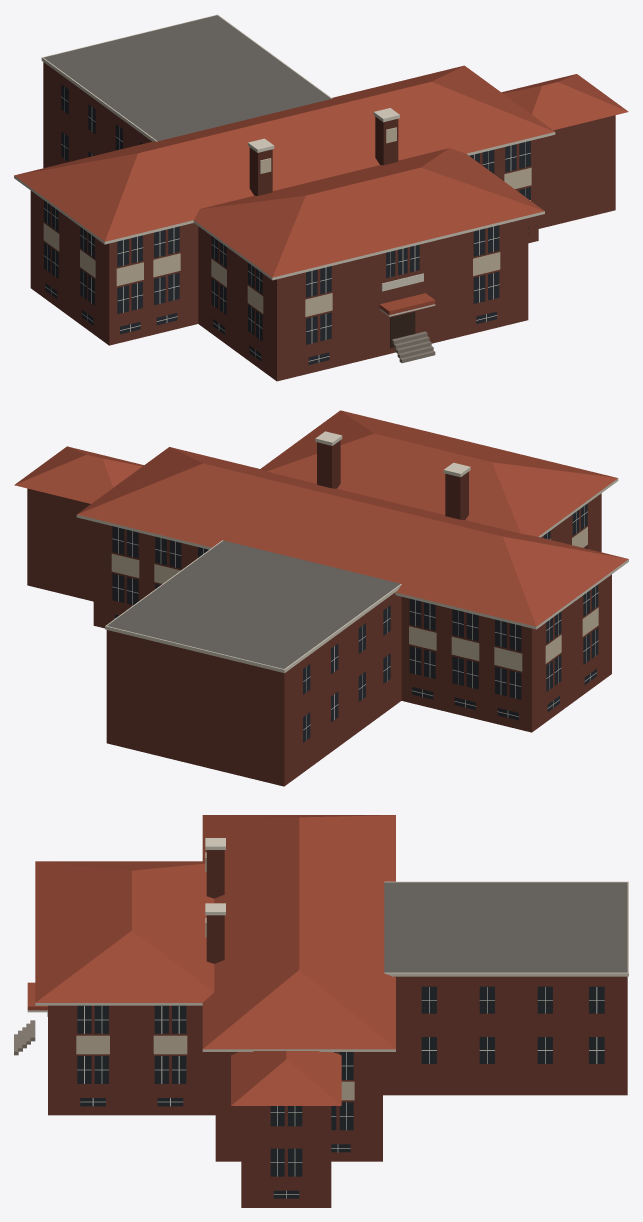
File: woodruff-school-1961.glb
3 renders of one model, top to bottom at view 1: azimuth 30°, elevation 25°; view 2: azimuth 150°, elevation 25°; view 3: azimuth 270°, elevation 25°, orthographic. The views are drawn at different scales.
Parts seen in each view (by area): view 1: woodruff_tile, woodruff_brick, woodruff_roof, woodruff_glass, woodruff_trim, woodruff_panel, woodruff_sash, woodruff_brick2, woodruff_base, woodruff_door; view 2: woodruff_tile, woodruff_brick, woodruff_roof, woodruff_glass, woodruff_trim, woodruff_panel, woodruff_brick2, woodruff_sash; view 3: woodruff_tile, woodruff_brick, woodruff_roof, woodruff_glass, woodruff_trim, woodruff_brick2, woodruff_panel, woodruff_sash.
Boxes of the visible parts, left/top/right/bottom form: woodruff_tile: left=14, top=65, right=628, bottom=314; woodruff_brick: left=30, top=62, right=615, bottom=381; woodruff_roof: left=44, top=15, right=331, bottom=141; woodruff_glass: left=44, top=84, right=530, bottom=364; woodruff_trim: left=14, top=14, right=555, bottom=316; woodruff_panel: left=43, top=127, right=531, bottom=316; woodruff_sash: left=44, top=87, right=530, bottom=362; woodruff_brick2: left=249, top=116, right=398, bottom=195; woodruff_base: left=392, top=331, right=435, bottom=363; woodruff_door: left=390, top=311, right=415, bottom=348; woodruff_tile: left=14, top=410, right=628, bottom=626; woodruff_brick: left=27, top=488, right=611, bottom=786; woodruff_roof: left=107, top=540, right=400, bottom=668; woodruff_glass: left=112, top=503, right=598, bottom=742; woodruff_trim: left=76, top=431, right=628, bottom=673; woodruff_panel: left=111, top=527, right=598, bottom=671; woodruff_brick2: left=317, top=440, right=468, bottom=519; woodruff_sash: left=112, top=506, right=598, bottom=739; woodruff_tile: left=27, top=815, right=395, bottom=1105; woodruff_brick: left=48, top=976, right=627, bottom=1207; woodruff_roof: left=384, top=882, right=627, bottom=972; woodruff_glass: left=47, top=986, right=604, bottom=1198; woodruff_trim: left=27, top=838, right=628, bottom=1051; woodruff_brick2: left=206, top=850, right=224, bottom=963; woodruff_panel: left=76, top=852, right=354, bottom=1100; woodruff_sash: left=77, top=987, right=604, bottom=1198.
Bounding box in the file's own units: 51.3 × 15 × 47.75.
